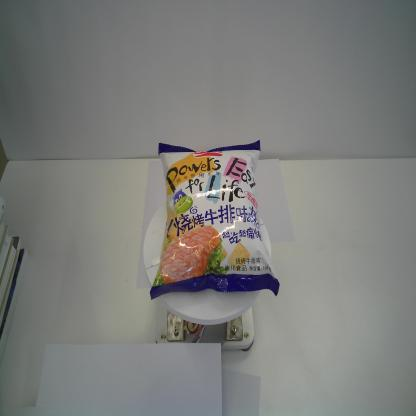Puffed Food: (150, 140, 281, 300)
